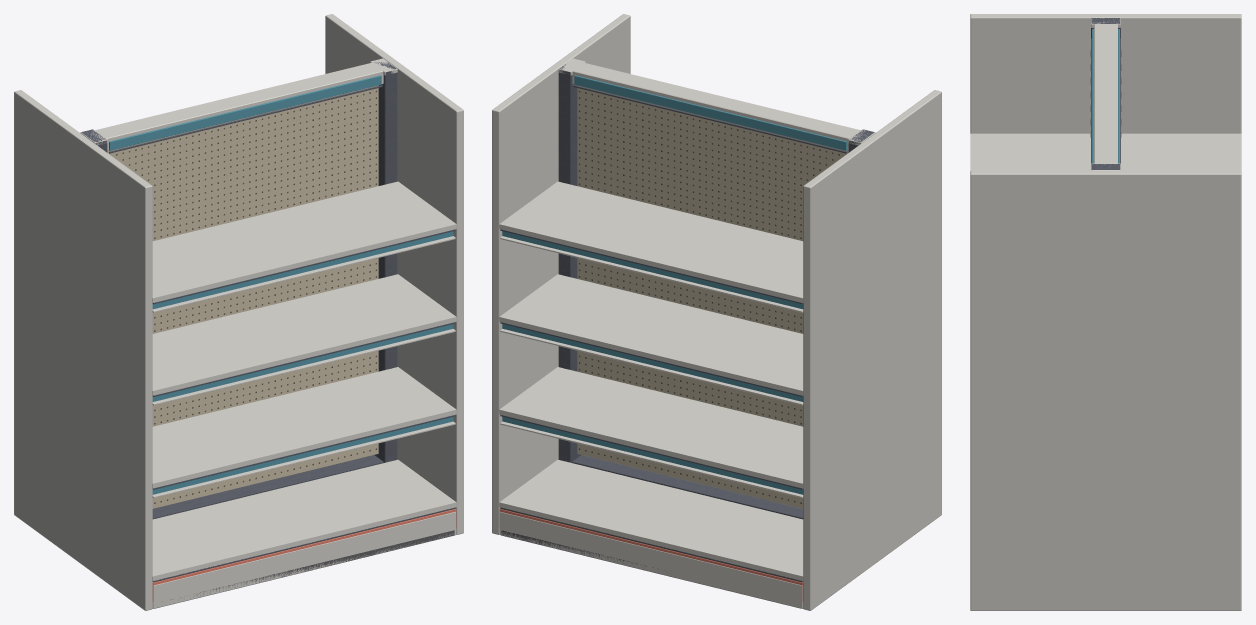
Rendered from gondola_double.glb.
The picture shows the model from 3 angles, left to right: view 1: azimuth 30°, elevation 25°; view 2: azimuth 150°, elevation 25°; view 3: azimuth 270°, elevation 25°; orthographic projection. The views are drawn at different scales.
Parts seen in each view (by area): view 1: gondola_double.001, end_panel_left, end_panel_right; view 2: gondola_double.001, end_panel_left, end_panel_right; view 3: end_panel_right, end_panel_left, gondola_double.001.
Boxes of the visible parts, bbox=[...] form: gondola_double.001: bbox=[80, 58, 456, 608]; end_panel_left: bbox=[14, 90, 152, 610]; end_panel_right: bbox=[325, 14, 463, 534]; gondola_double.001: bbox=[499, 58, 875, 608]; end_panel_left: bbox=[803, 90, 941, 610]; end_panel_right: bbox=[492, 14, 630, 534]; end_panel_right: bbox=[970, 170, 1241, 610]; end_panel_left: bbox=[970, 14, 1241, 133]; gondola_double.001: bbox=[970, 17, 1241, 170].
Size of what is drawn, in the model's own units: 1.26 by 1.6 by 0.9.
6 materials, 2 textured.
